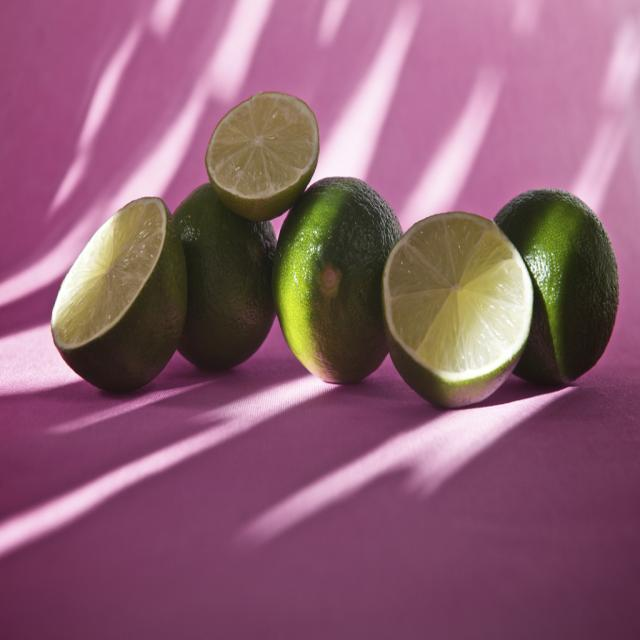Lemon: (52, 93, 620, 408)
